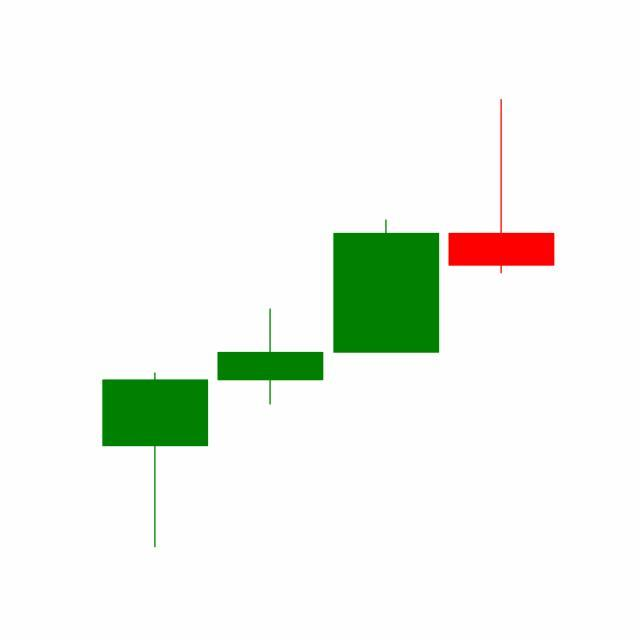Marubozu: (329, 218, 445, 354)
